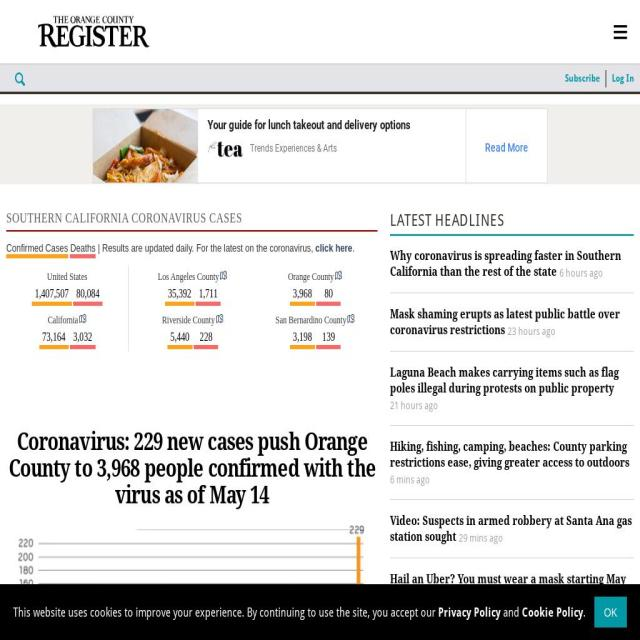button: (596, 597, 627, 628), (10, 64, 30, 92)
heading: (8, 429, 376, 514), (6, 242, 361, 264), (35, 10, 154, 52), (5, 208, 246, 227), (388, 210, 506, 232)
iframe: (93, 106, 549, 181), (1, 585, 640, 637)
image: (94, 106, 197, 182), (14, 68, 26, 87)
link: (482, 137, 530, 158), (313, 239, 356, 258), (563, 70, 601, 88), (612, 71, 636, 84)
text: (388, 438, 632, 491), (386, 363, 624, 414), (12, 603, 586, 623), (203, 116, 414, 166), (149, 263, 245, 358), (386, 248, 624, 286), (387, 514, 635, 549), (271, 266, 360, 358), (390, 306, 623, 341), (31, 268, 116, 356), (386, 570, 634, 588)
